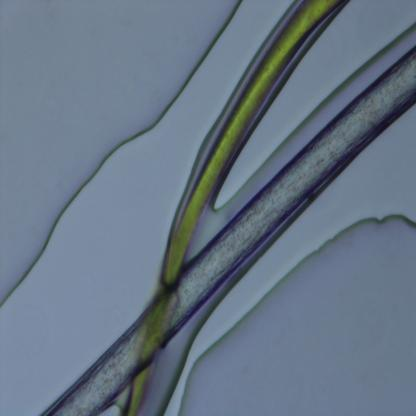Air bubble: (0, 0, 242, 307), (181, 216, 416, 416)
Microfibre: (40, 42, 416, 414), (125, 0, 346, 414)
